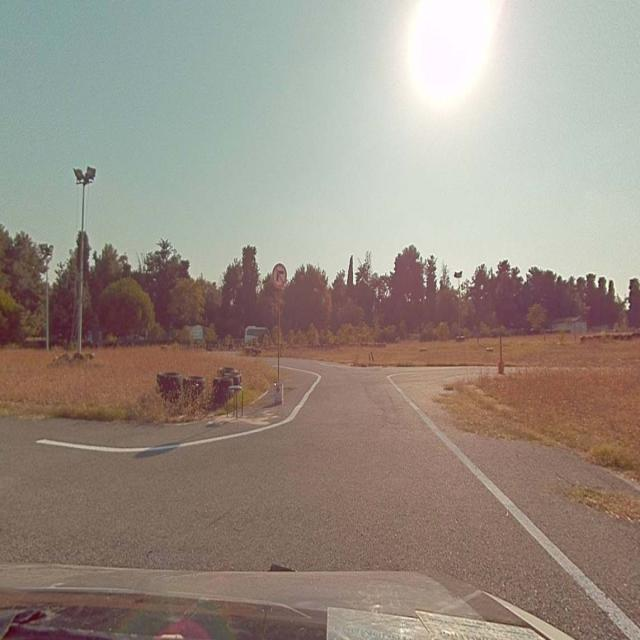sagadonulmez: (272, 265, 286, 288)
